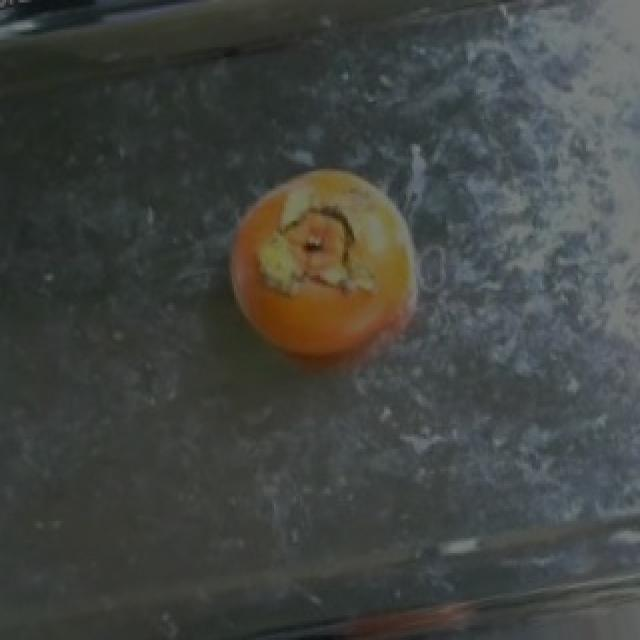Fruit: (204, 149, 444, 392)
